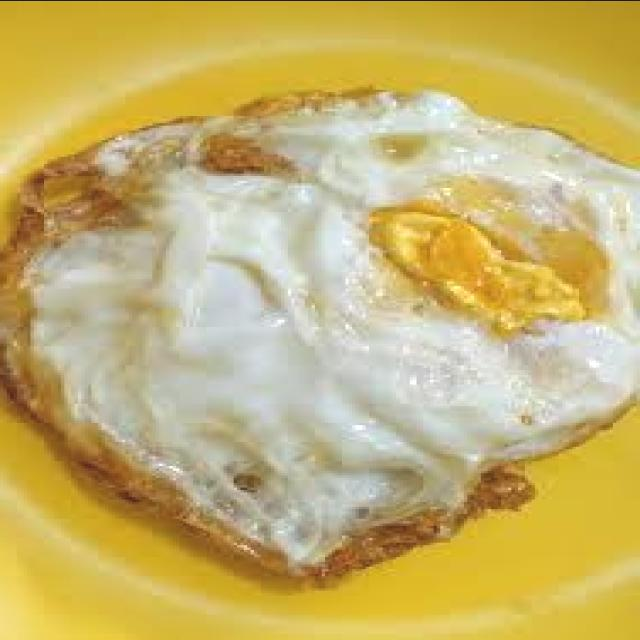telur ceplok: (0, 86, 640, 587)
